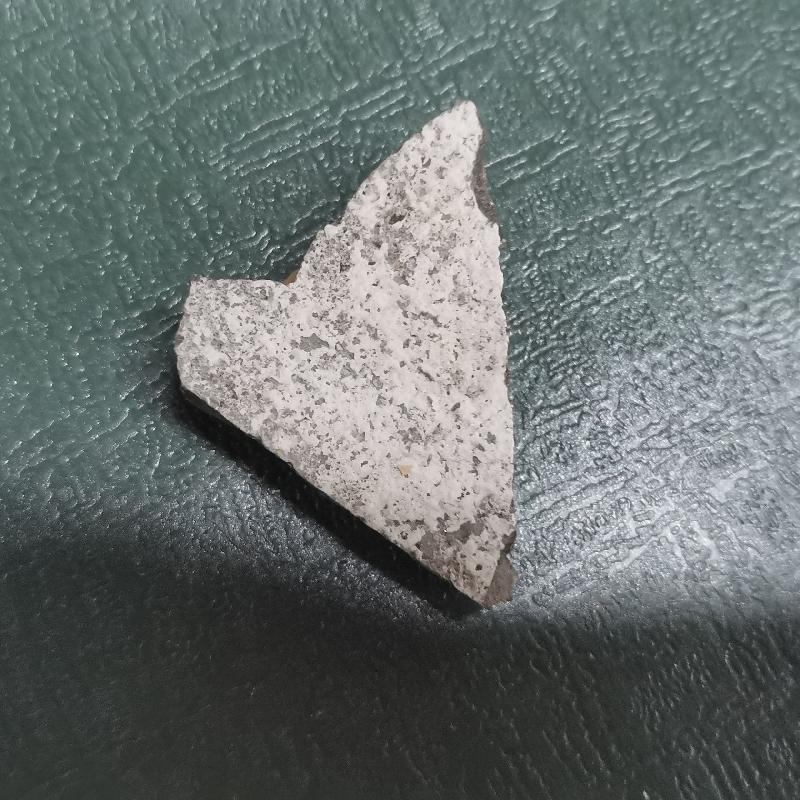tile: (166, 90, 570, 610)
